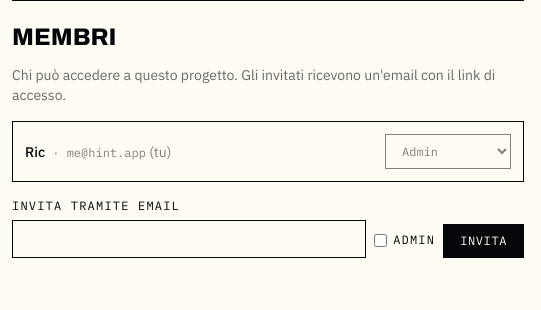
Test case: MembersSection › shows the invite error returned by the action
The image size is (541, 310).
Type "new@hint.app" into the field labelled "Invita tramite email". click: (189, 239)
box: top-left (12, 220), bottom-right (366, 258)
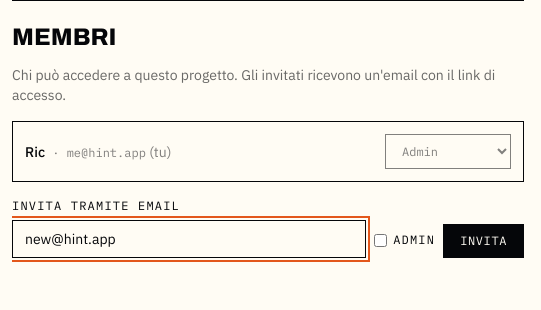
Click the button "Invita". click: (484, 241)
box: top-left (443, 224), bottom-right (524, 258)
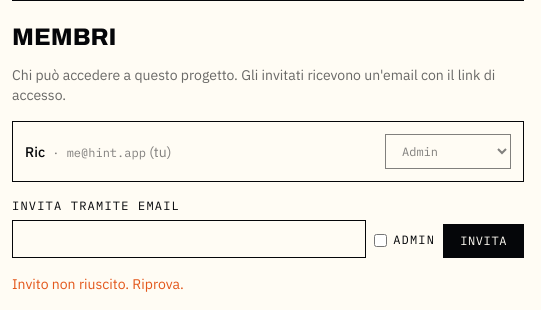
expect the message reads "Invito non riuscito. Riprova.": met, box top-left (12, 275), bottom-right (184, 293)
